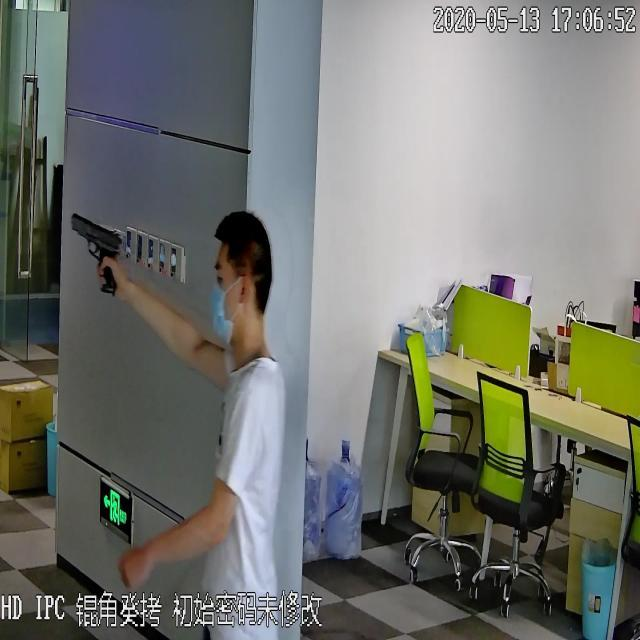gun: (69, 204, 127, 296)
